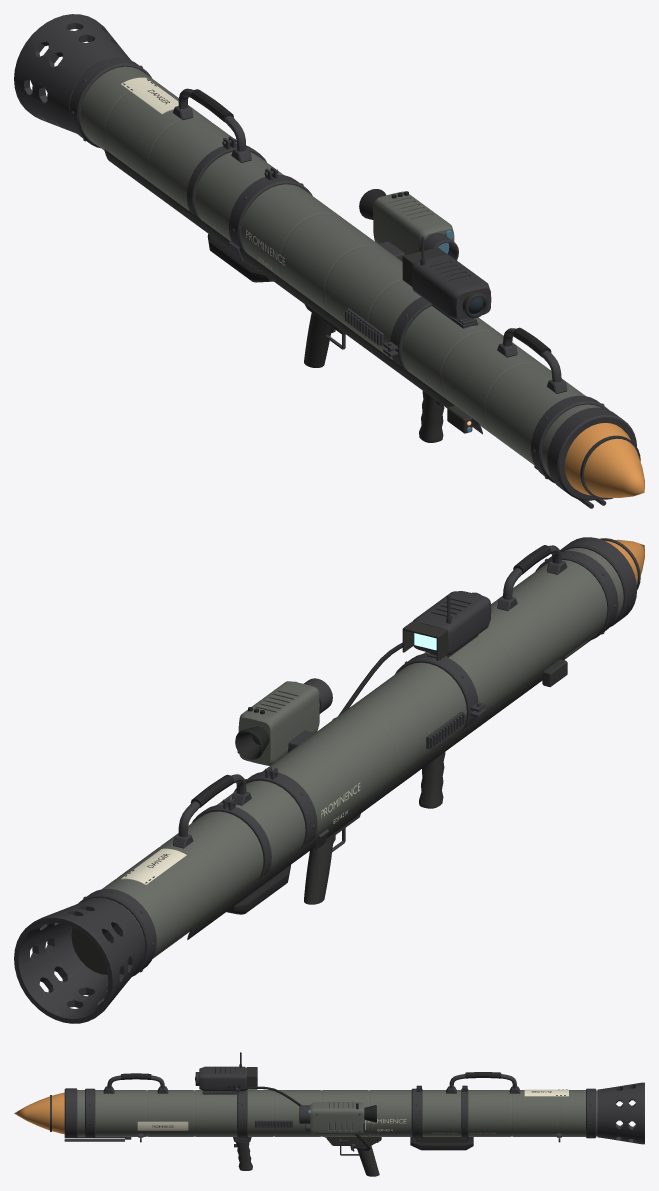
The model's file is prominence.glb.
3 views of the same model, one above another, from view 1: azimuth 30°, elevation 25°; view 2: azimuth 150°, elevation 25°; view 3: azimuth 270°, elevation 25° (orthographic). The views are drawn at different scales.
Visible parts, largest first — view 1: Body; view 2: Body; view 3: Body.
Boxes of the visible parts, <box> form: Body: <box>14,14,644,508</box>; Body: <box>14,537,644,1023</box>; Body: <box>14,1052,644,1176</box>.
Bounding box in the file's own units: 0.2734 × 0.4125 × 1.99.
